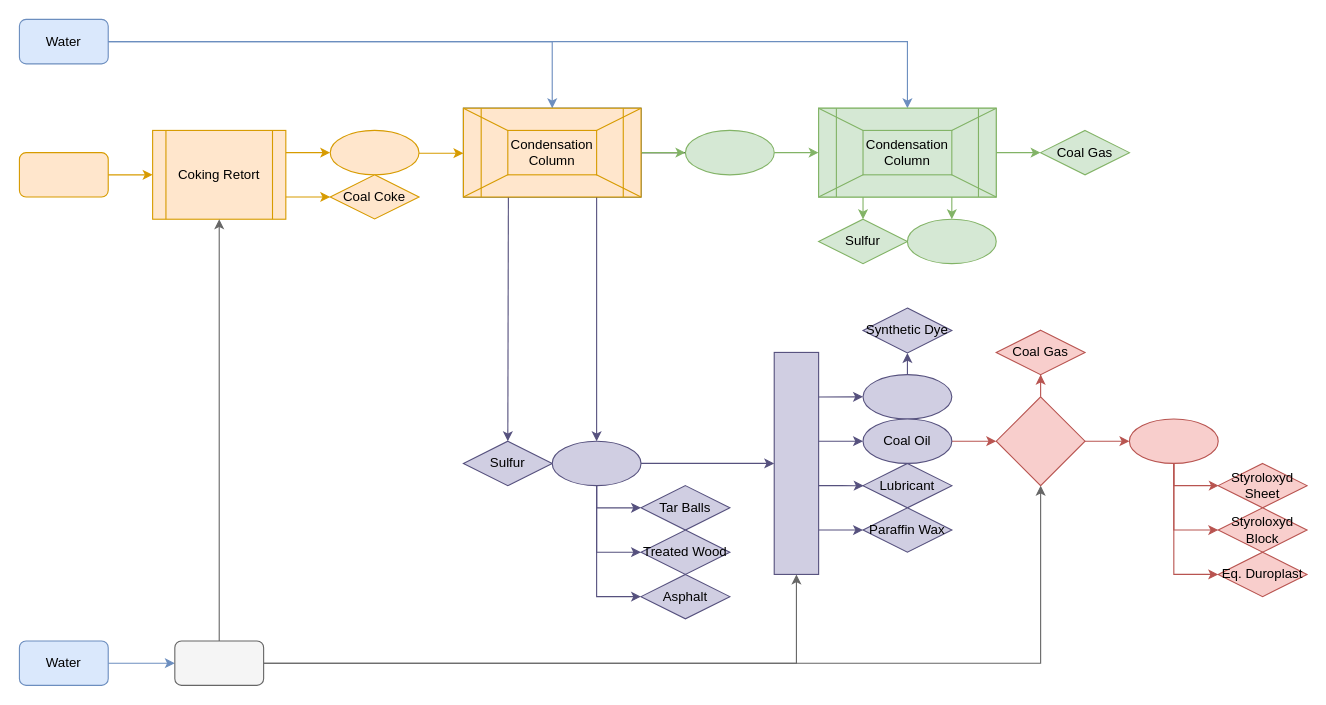
This 1326x705 diagram has some shape labels left out. Here are the shapes that lost their labels. From the top down, the centre of each, then its label:
point (374, 152): Tar Gas
point (729, 152): Retort Gas
point (63, 174): Coal
point (951, 241): Ammonical Liqour
point (907, 396): Aniline
point (1040, 441): PRU
point (1173, 440): Raw Styroloxyd
point (596, 463): Coal Tar
point (796, 462): Steam Distillation Column
point (219, 662): Process Steam
